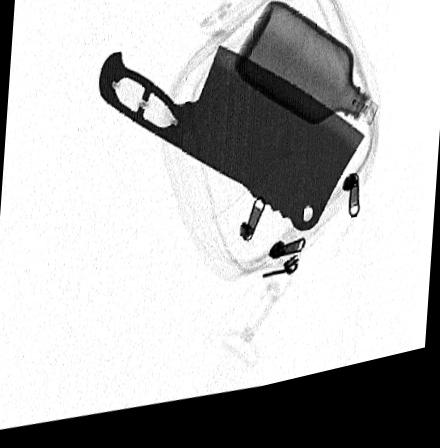Knife: (97, 54, 365, 247)
